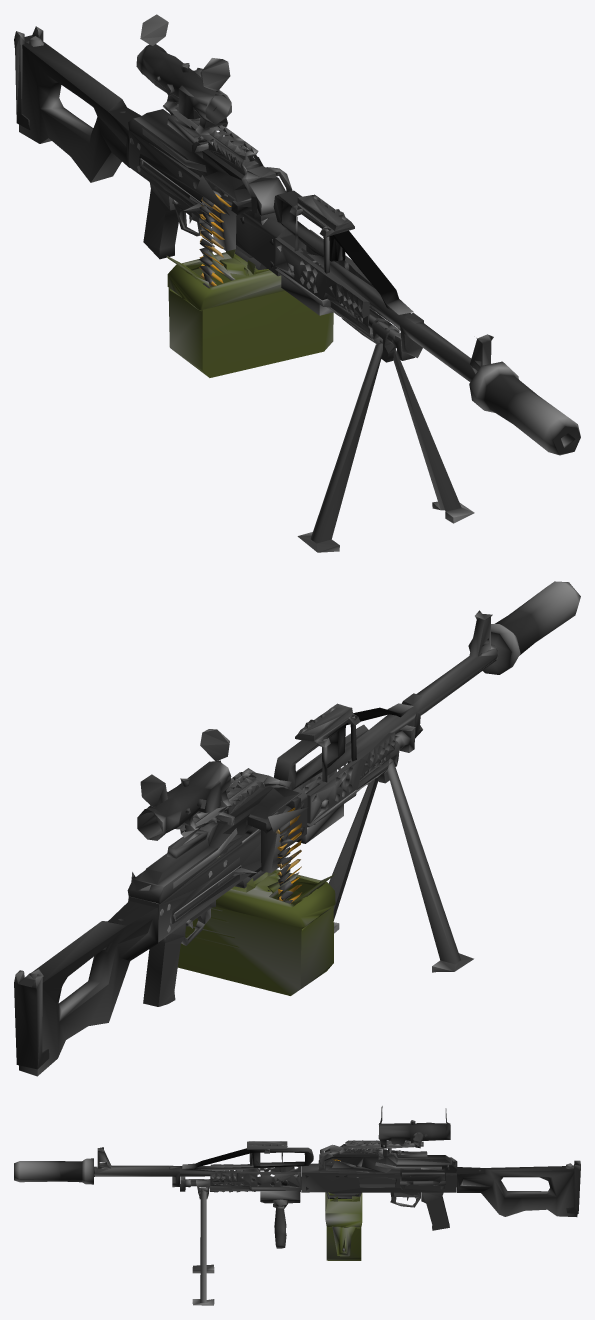
The model's file is pkp.glb.
3 views of the same model, one above another, from view 1: azimuth 30°, elevation 25°; view 2: azimuth 150°, elevation 25°; view 3: azimuth 270°, elevation 25° (orthographic). The views are drawn at different scales.
Parts seen in each view (by area): view 1: gun_pkp; view 2: gun_pkp; view 3: gun_pkp.
Boxes of the visible parts, box(x1,y1,x2,y2) form: gun_pkp: box(14, 14, 580, 552); gun_pkp: box(14, 581, 580, 1076); gun_pkp: box(14, 1106, 580, 1305).
Size of the model in its own units: 0.1727 by 0.3547 by 1.
